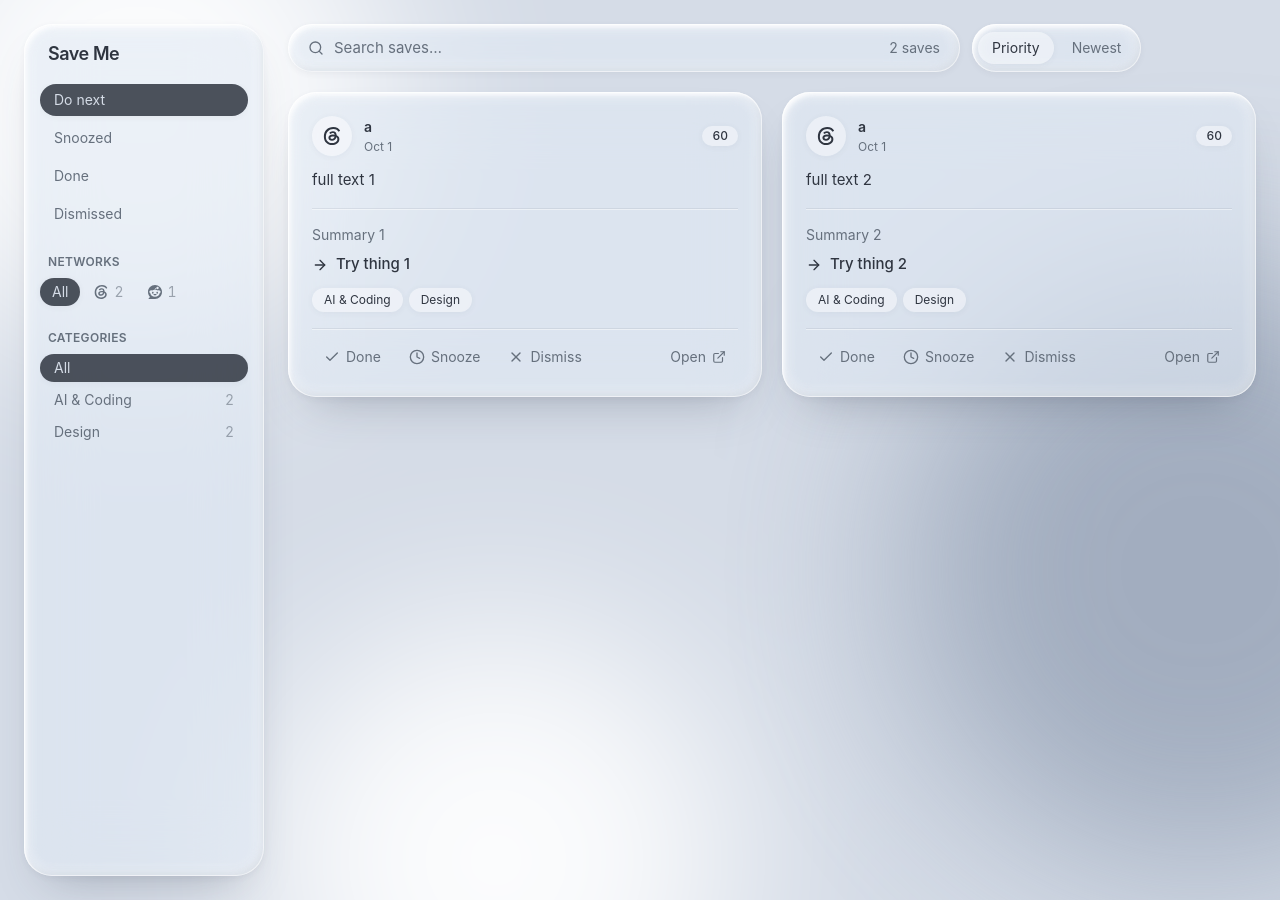
Test: marking a save done removes it and patches the server
Click the button "Done" below "Try thing 1".
click(352, 357)  # box [312,341,393,373]
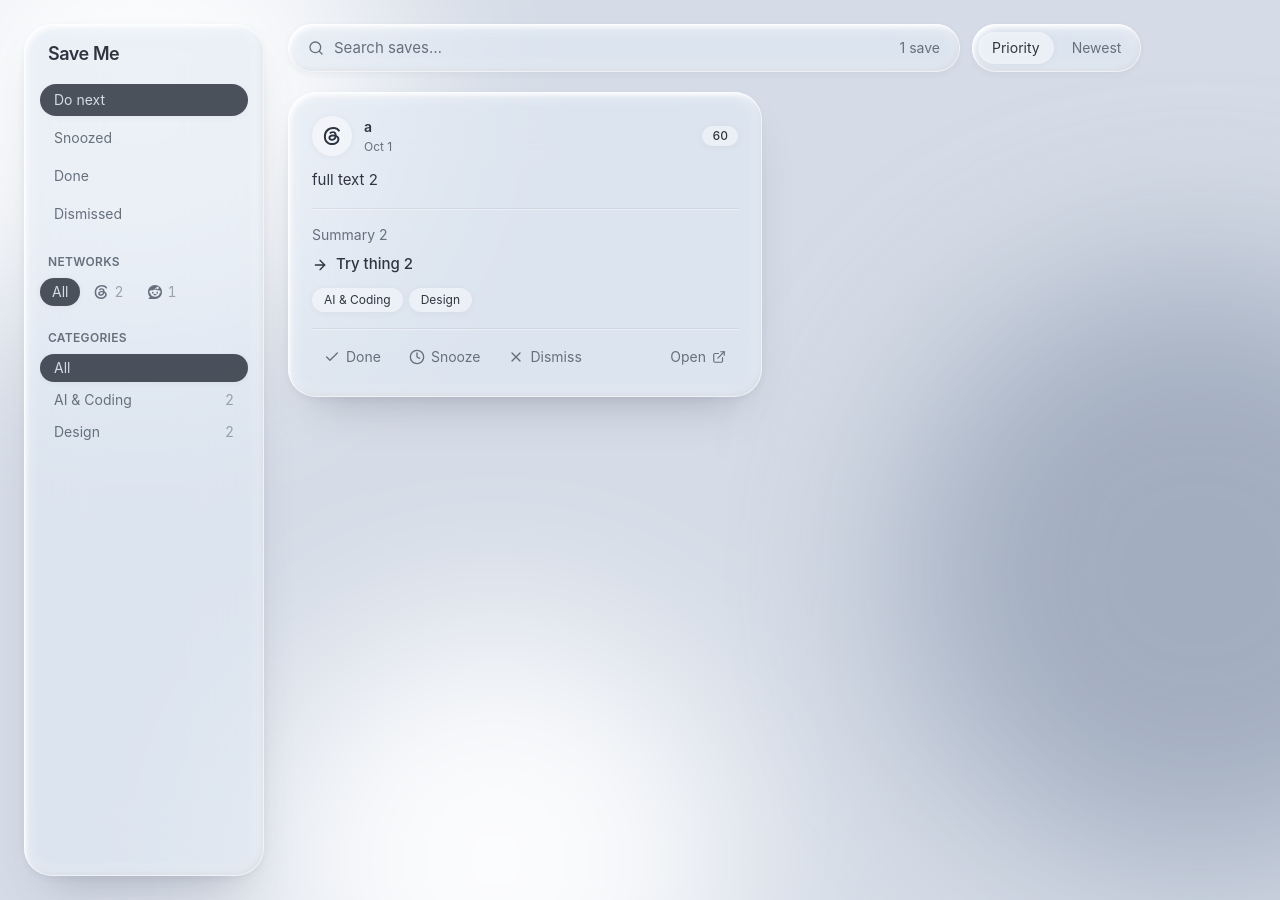
Now the text "Summary 1" is gone
Now the text "1 save" is shown, box [900,38,940,58]
